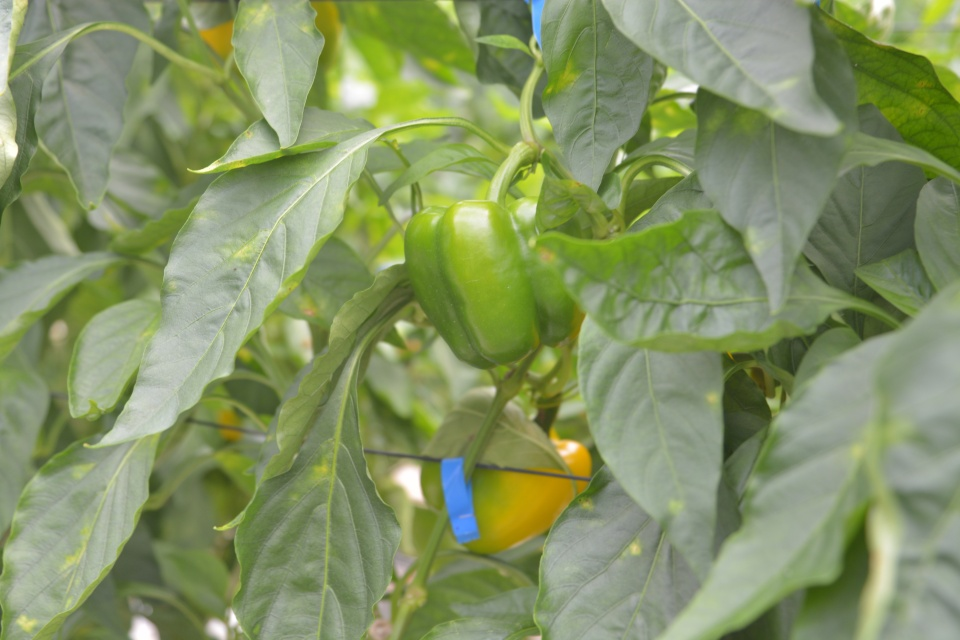fruit: (401, 194, 579, 371), (420, 387, 596, 559)
